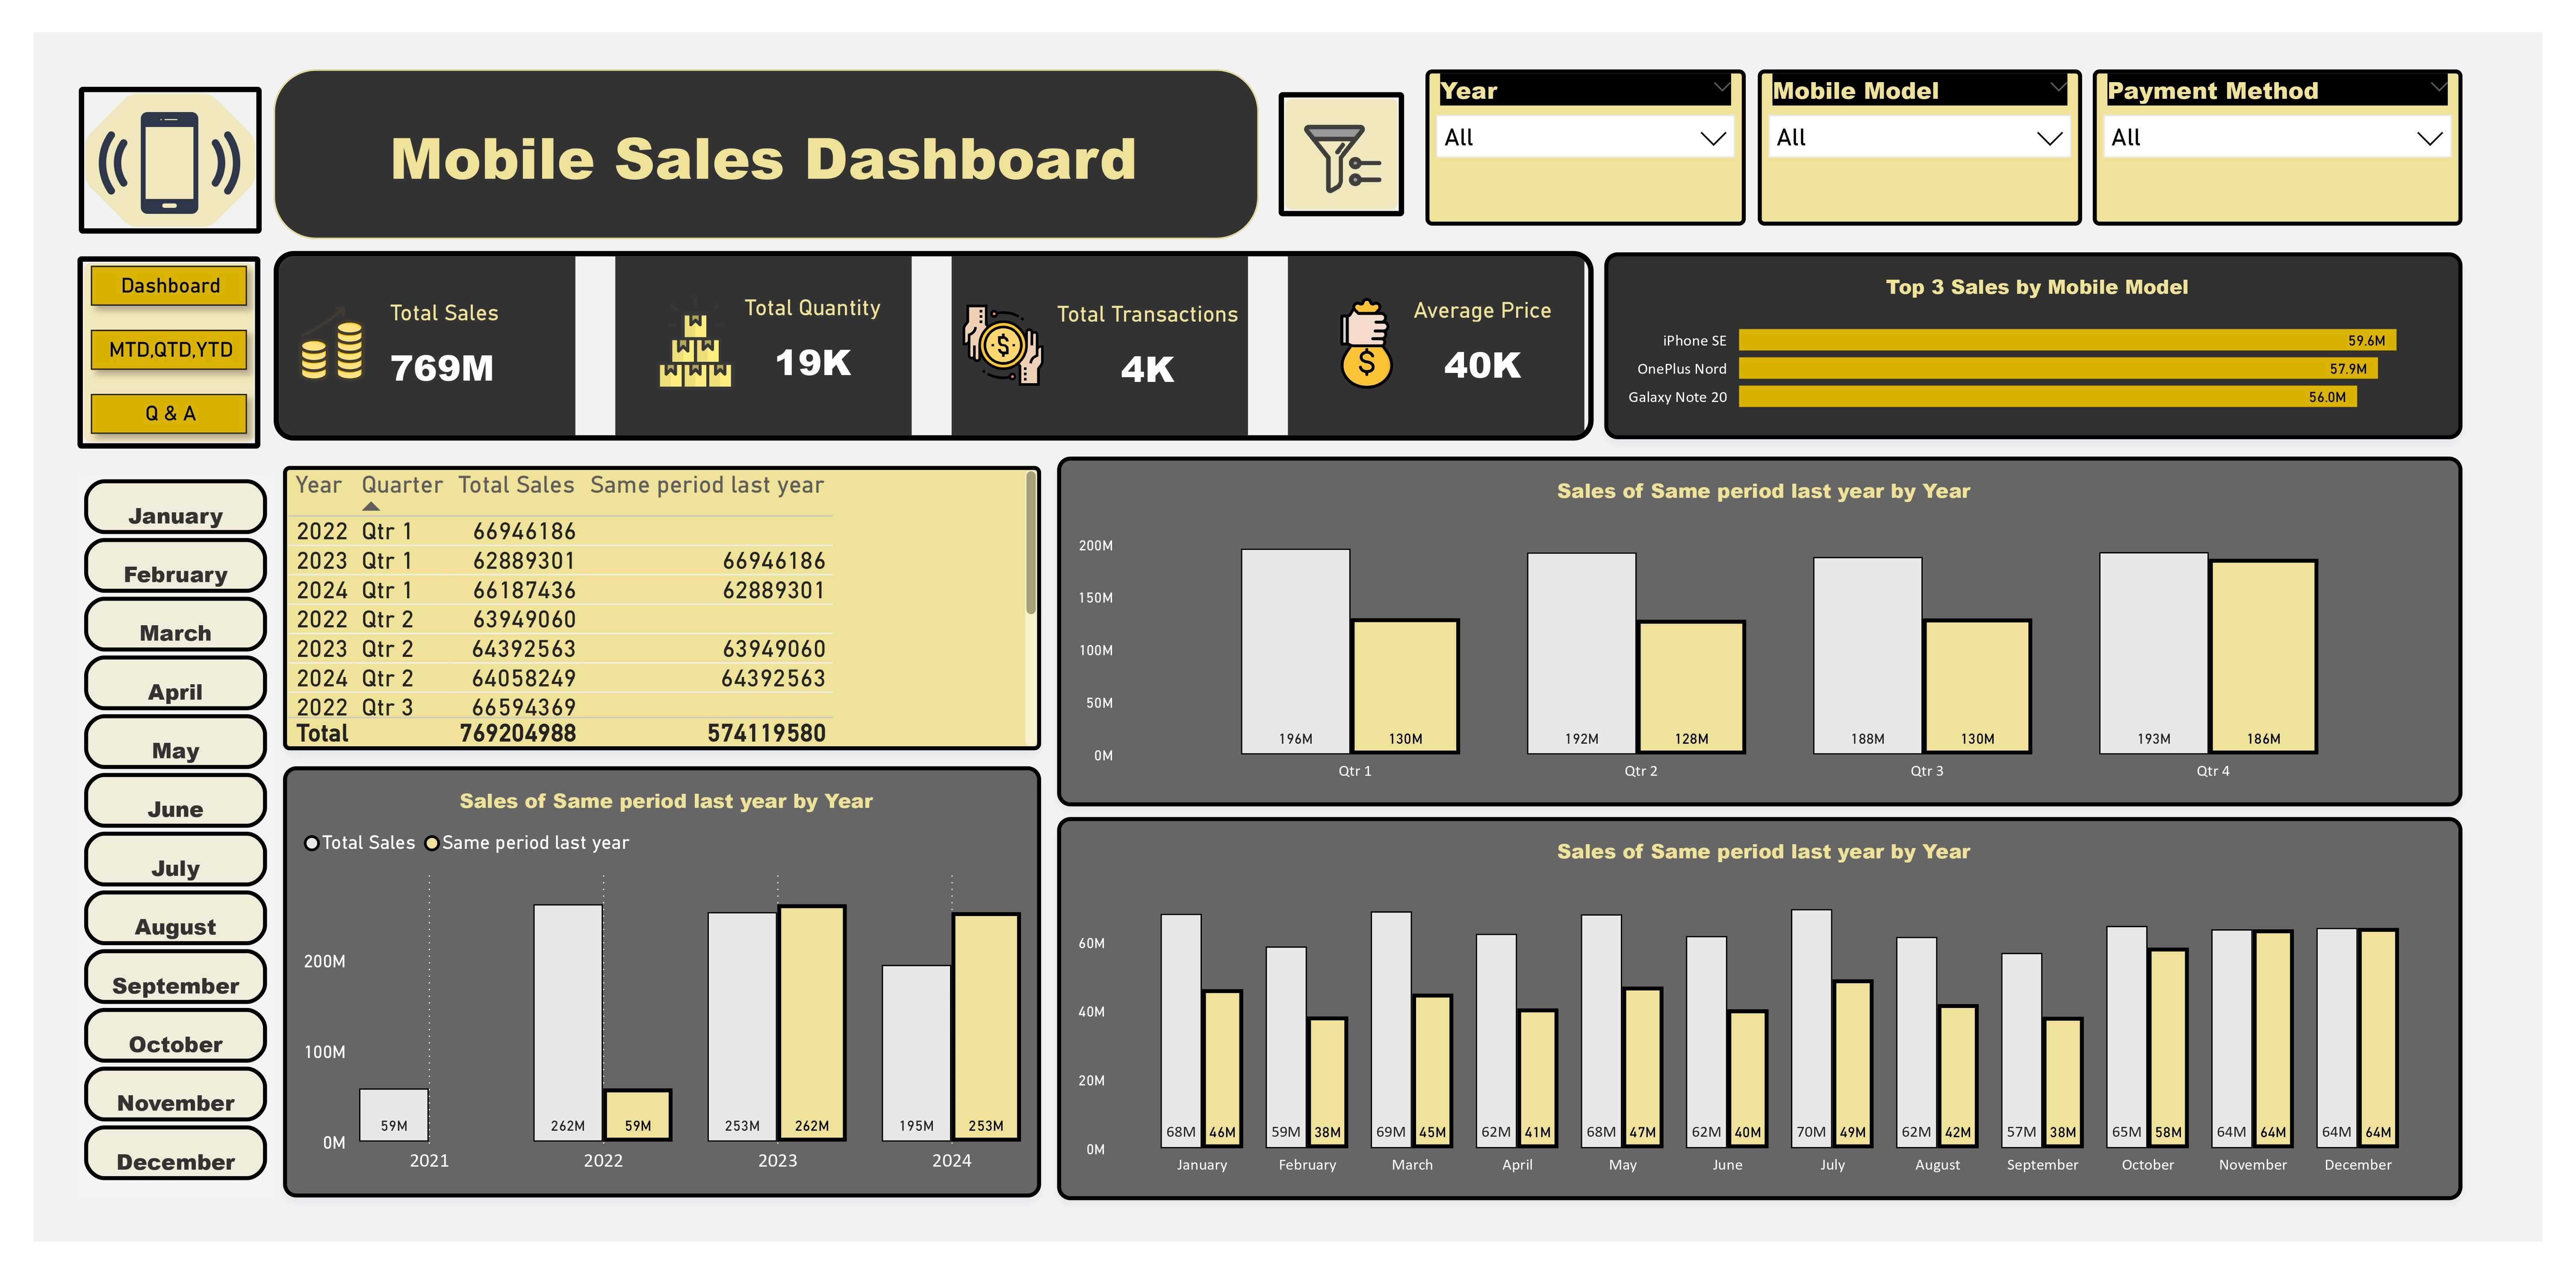

The dashboard page shown, as its layout file describes it:
{"tool":"powerbi","page":{"name":"Same Period Last Year","canvas":[1880,906],"ordinal":2},"visuals":[{"type":"shape","box":[34.3,41.4,137.1,110],"z":0},{"type":"image","box":[44.3,48.6,115.7,97.1],"z":1000},{"type":"shape","box":[933.3,45,93.3,93.3],"z":2000},{"type":"shape","box":[180,28.3,738.3,126.7],"z":3000},{"type":"textbox","box":[226.7,58.3,640,81.7],"z":4000},{"type":"cardVisual","fields":{"Data":["sales_data.Total Amount","sales_data.Total Quantity","sales_data.Total Transactions","sales_data.Average Price"]},"box":[180,164.3,988.6,141.4],"z":5000},{"type":"slicer","fields":{"Values":["sales_data.Payment Method"]},"box":[1543.3,28.3,276.7,116.7],"z":6000},{"type":"slicer","fields":{"Values":["custom calendar.custom date.Variation.Date Hierarchy.Year"]},"box":[1043.3,28.3,240,116.7],"z":7000},{"type":"slicer","fields":{"Values":["sales_data.Mobile Model"]},"box":[1291.7,28.3,243.3,116.7],"z":8000},{"type":"image","box":[946.7,56.7,68.3,75],"z":9000},{"type":"shape","box":[33.3,168.3,136.7,143.3],"z":10000},{"type":"clusteredBarChart","title":"Top 3 Sales by Mobile Model","fields":{"Category":["sales_data.Mobile Model"],"Y":["sales_data.Total Sales"]},"box":[1176.7,165,643.3,140],"z":11000},{"type":"advancedSlicerVisual","fields":{"Values":["custom calendar.custom date.Variation.Date Hierarchy.Month"]},"box":[33.3,330,146.7,545],"z":12000},{"type":"tableEx","fields":{"Values":["custom calendar.custom date.Variation.Date Hierarchy.Year","custom calendar.custom date.Variation.Date Hierarchy.Quarter","sales_data.Total Sales","sales_data.Same period last year"]},"box":[186.7,325,568.3,213.3],"z":13000},{"type":"clusteredColumnChart","title":"Sales of Same period last year by Year","fields":{"Category":["custom calendar.custom date.Variation.Date Hierarchy.Year","custom calendar.custom date.Variation.Date Hierarchy.Quarter"],"Y":["sales_data.Total Sales","sales_data.Same period last year"]},"box":[186.7,550,568.3,323.3],"z":14000},{"type":"clusteredColumnChart","title":"Sales of Same period last year by Year","fields":{"Y":["sales_data.Total Sales","sales_data.Same period last year"],"Category":["custom calendar.custom date.Variation.Date Hierarchy.Month"]},"box":[766.7,588.3,1053.3,286.7],"z":15000},{"type":"clusteredColumnChart","title":"Sales of Same period last year by Year","fields":{"Category":["custom calendar.custom date.Variation.Date Hierarchy.Quarter"],"Y":["sales_data.Total Sales","sales_data.Same period last year"]},"box":[766.7,318.3,1053.3,261.7],"z":16000},{"type":"pageNavigator","box":[34,166,135,144],"z":17000}]}

Visuals, with their boxes in screenshot pixels (x1, y1, x2, y2):
shape: select_region(78, 87, 261, 234)
image: select_region(91, 97, 246, 227)
shape: select_region(1279, 92, 1404, 217)
shape: select_region(273, 70, 1259, 239)
textbox: select_region(335, 110, 1190, 219)
cardVisual - sales_data.Total Amount x sales_data.Total Quantity: select_region(273, 251, 1593, 440)
slicer - sales_data.Payment Method: select_region(2094, 70, 2464, 226)
slicer - custom calendar.custom date.Variation.Date Hierarchy.Year: select_region(1426, 70, 1747, 226)
slicer - sales_data.Mobile Model: select_region(1758, 70, 2083, 226)
image: select_region(1297, 108, 1388, 208)
shape: select_region(77, 257, 259, 448)
"Top 3 Sales by Mobile Model" clusteredBarChart: select_region(1604, 252, 2464, 439)
advancedSlicerVisual - custom calendar.custom date.Variation.Date Hierarchy.Month: select_region(77, 473, 273, 1200)
tableEx - custom calendar.custom date.Variation.Date Hierarchy.Year x custom calendar.custom date.Variation.Date Hierarchy.Quarter: select_region(281, 466, 1041, 751)
"Sales of Same period last year by Year" clusteredColumnChart: select_region(281, 766, 1041, 1198)
"Sales of Same period last year by Year" clusteredColumnChart: select_region(1056, 818, 2464, 1200)
"Sales of Same period last year by Year" clusteredColumnChart: select_region(1056, 457, 2464, 807)
pageNavigator: select_region(77, 254, 258, 446)
